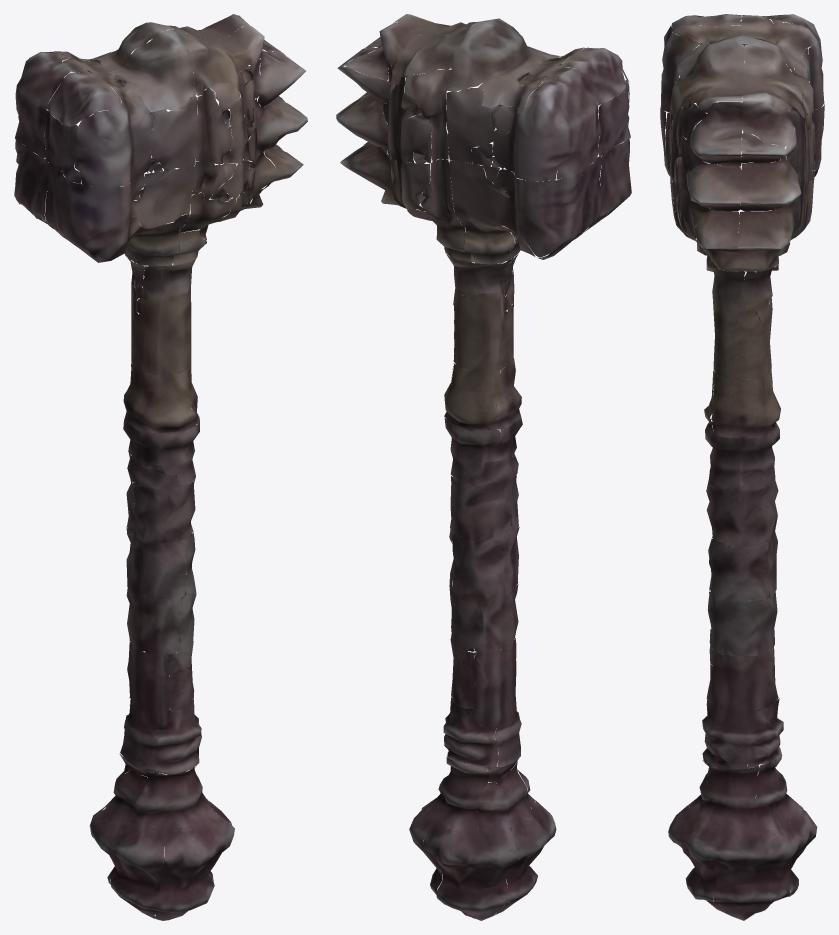
File: hammer3.glb
3 views of the same model, side by side, from view 1: azimuth 30°, elevation 25°; view 2: azimuth 150°, elevation 25°; view 3: azimuth 270°, elevation 25° (orthographic).
Visible parts, largest first — view 1: hammer3; view 2: hammer3; view 3: hammer3.
Part boxes in pixels (x1,y1,x2,y2): hammer3: (14, 14, 307, 920); hammer3: (336, 14, 631, 920); hammer3: (660, 14, 824, 920).
Bounding box in the file's own units: 0.2887 × 1 × 0.1696.
1 material, 1 textured.
